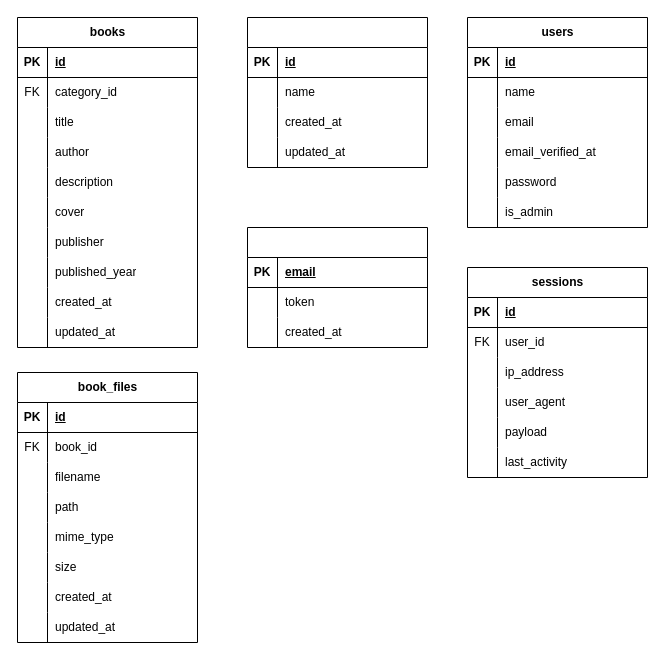
This 665x660 diagram has some shape labels left out. The box of each missing label's shape, as (x1, y1, x2, y2) in pixels:
categories: (246, 16, 428, 168)
password_reset_tokens: (246, 226, 428, 348)
